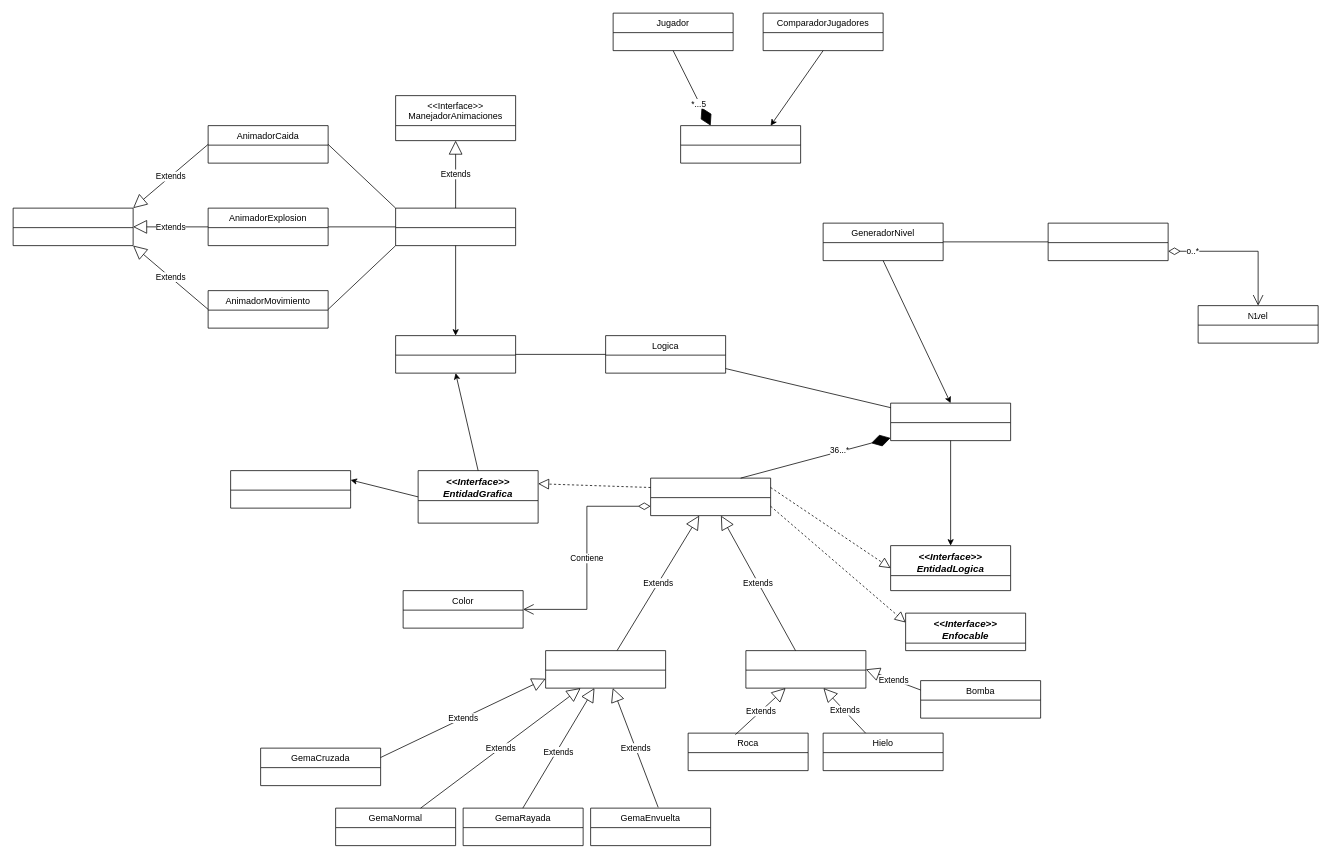
The diagram is 1331 pixels wide and 859 high, and some of its shapes have lost their labels. Here are the shapes that lost their labels. From the top down, the centre of each, then its label:
(x=740, y=144): TopScore
(x=72, y=226): AnimadordeIntercambios
(x=455, y=226): CentralAnimaciones
(x=1107, y=241): Objetivos
(x=455, y=354): GUI
(x=950, y=421): Tablero
(x=290, y=489): JLabel
(x=710, y=496): entidad
(x=605, y=669): Gemas
(x=805, y=669): Obstaculo
